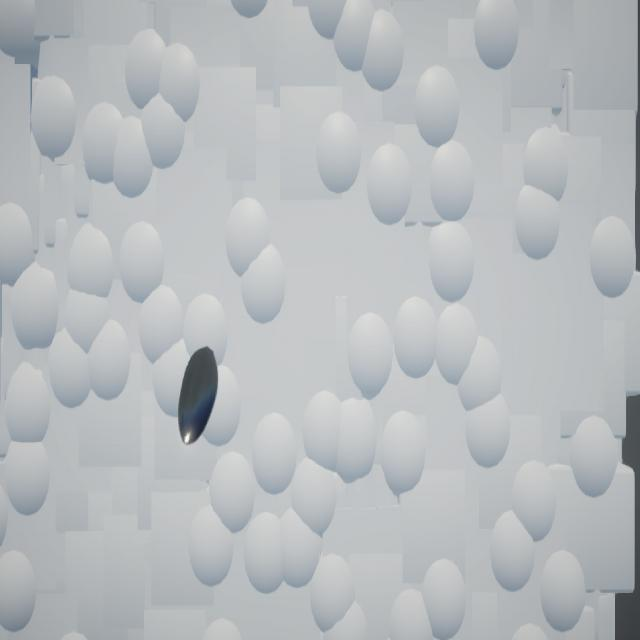top_spoon: (179, 347, 219, 447)
